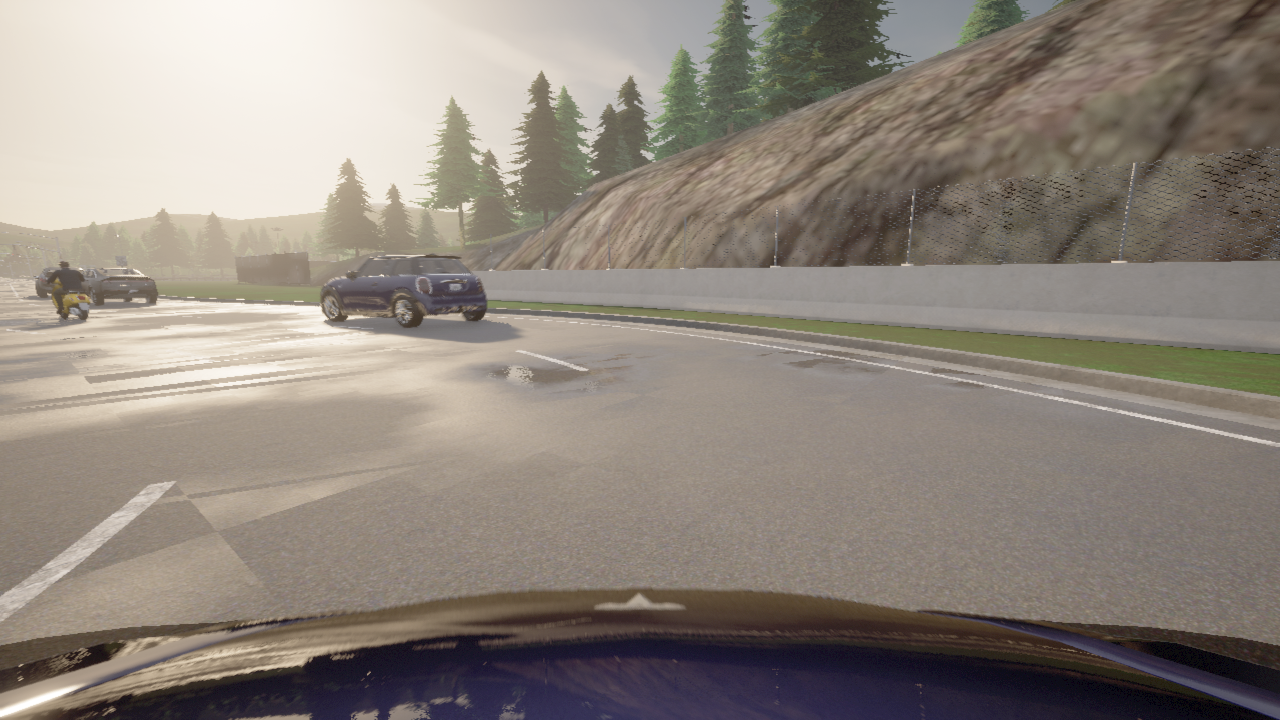cyclist: (0, 588, 1279, 719), (320, 249, 486, 327), (81, 268, 158, 305), (39, 274, 90, 319), (33, 267, 84, 297)
